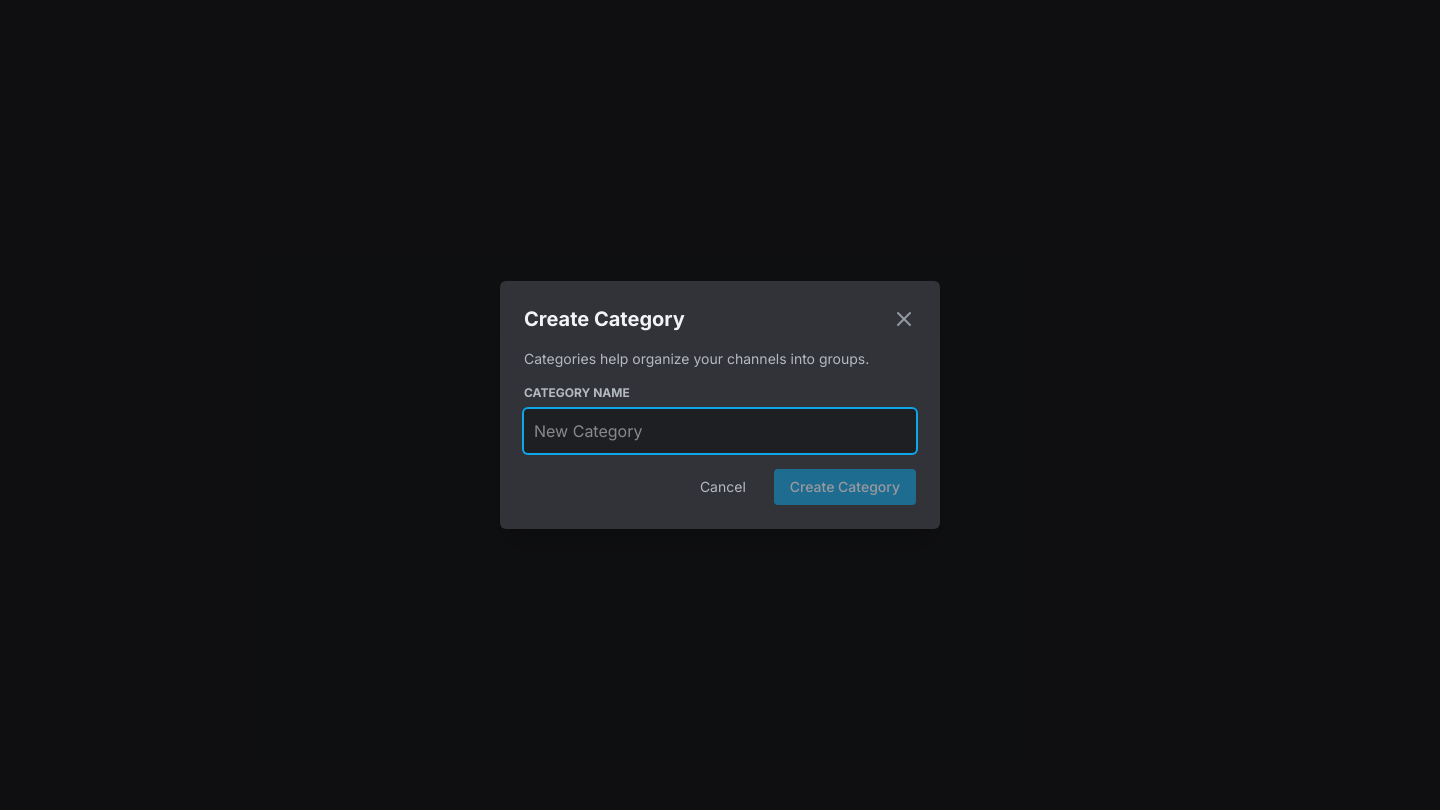
it: CreateCategoryModal › shows Creating... while loading
Type "Text Channels" into the field with placeholder "New Category" at (720, 431), box [524,409,916,453]
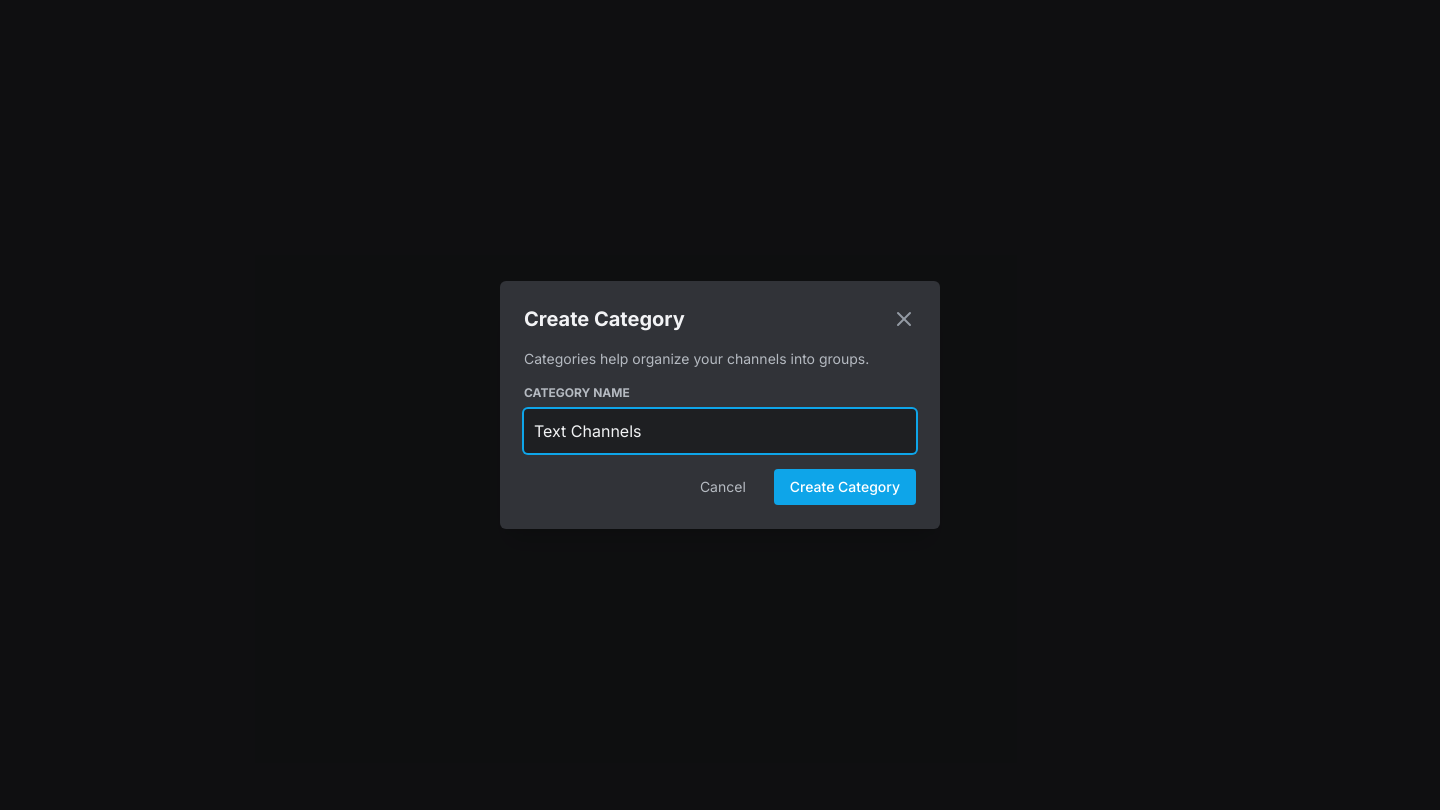
Click the button "Create Category" at (845, 487), box [774,469,916,505]
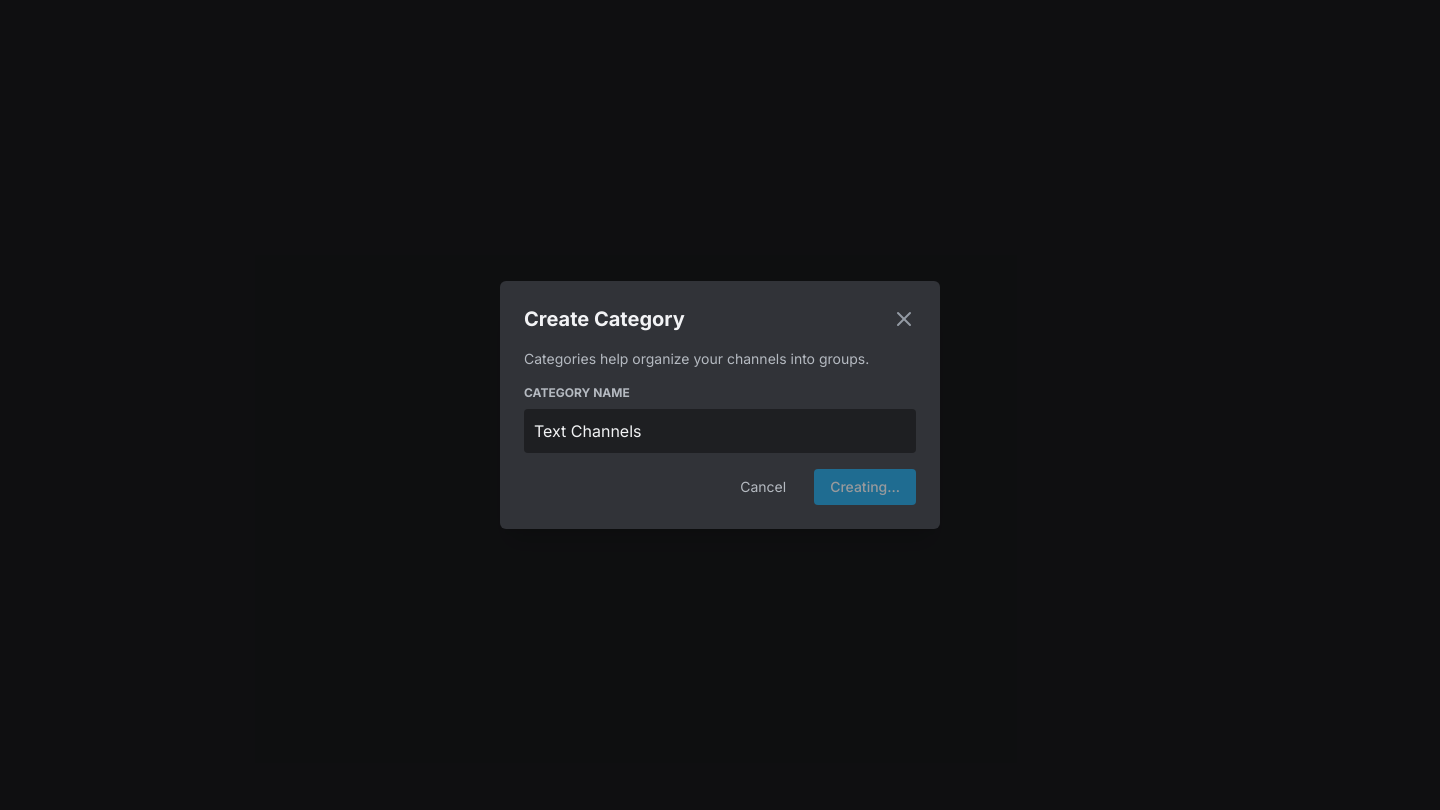
Now the button "Creating..." is shown, box [814,469,916,505]
